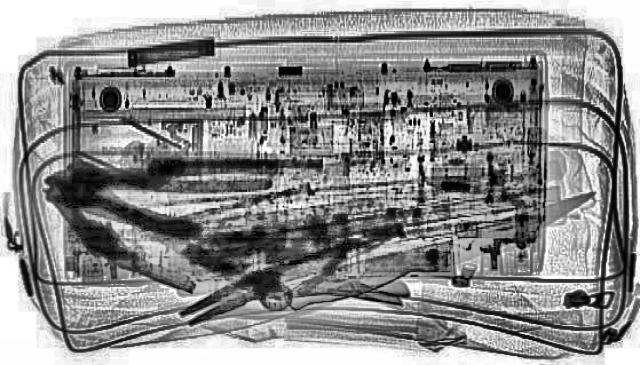Knife: (271, 180, 623, 319)
